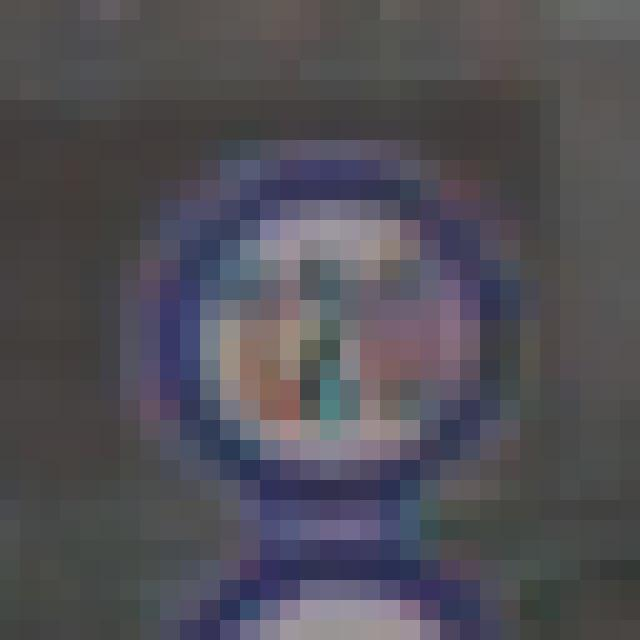SPEED LIMIT 120: (144, 123, 530, 508)
